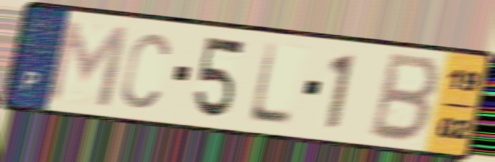1: (324, 52, 362, 131)
5: (192, 33, 247, 120)
B: (365, 49, 445, 146)
C: (118, 29, 173, 111)
L: (245, 40, 295, 129)
M: (44, 17, 132, 111)
